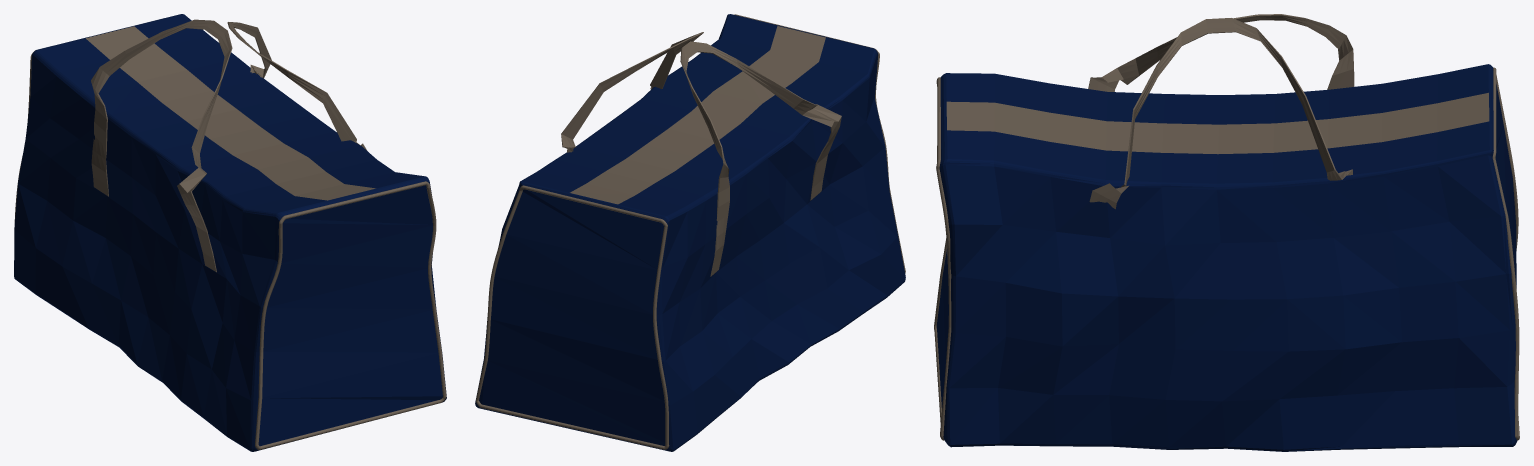
File: sport_bag_blue.obj
The picture shows the model from 3 angles, left to right: view 1: azimuth 30°, elevation 25°; view 2: azimuth 150°, elevation 25°; view 3: azimuth 270°, elevation 25°; orthographic projection. The views are drawn at different scales.
Visible parts, largest first — view 1: Line02.001; view 2: Line02.001; view 3: Line02.001.
Part boxes in pixels (box(x1,y1,x2,y2)): Line02.001: box(14, 14, 446, 451); Line02.001: box(475, 14, 905, 451); Line02.001: box(934, 14, 1519, 451).
Bounding box in the file's own units: 0.0314 × 0.0445 × 0.0632.
